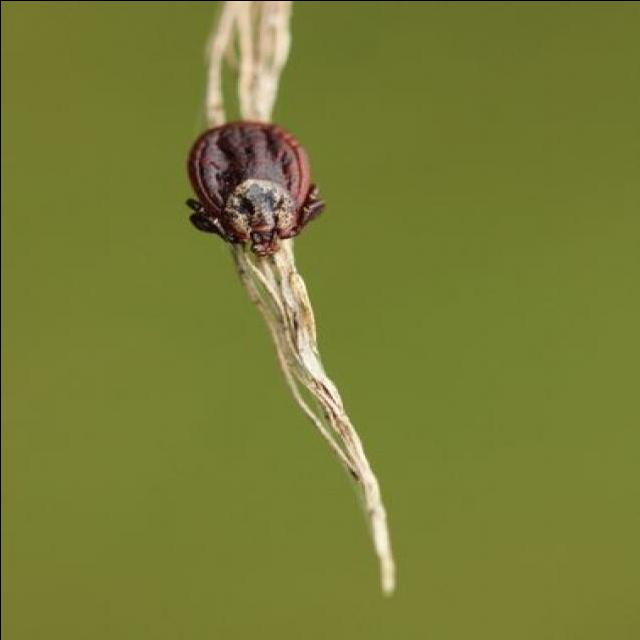Dermacentor Reticulatus-F: (183, 120, 325, 255)
